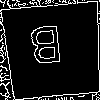B: (27, 25, 65, 74)
